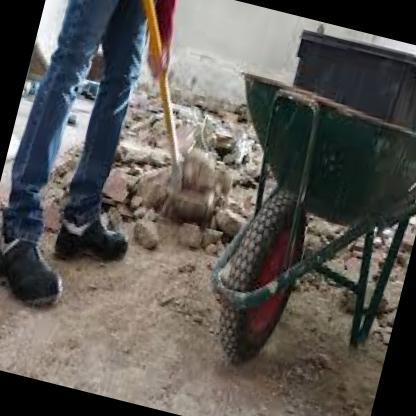safety-shoe: (0, 225, 76, 334), (50, 212, 140, 275)
